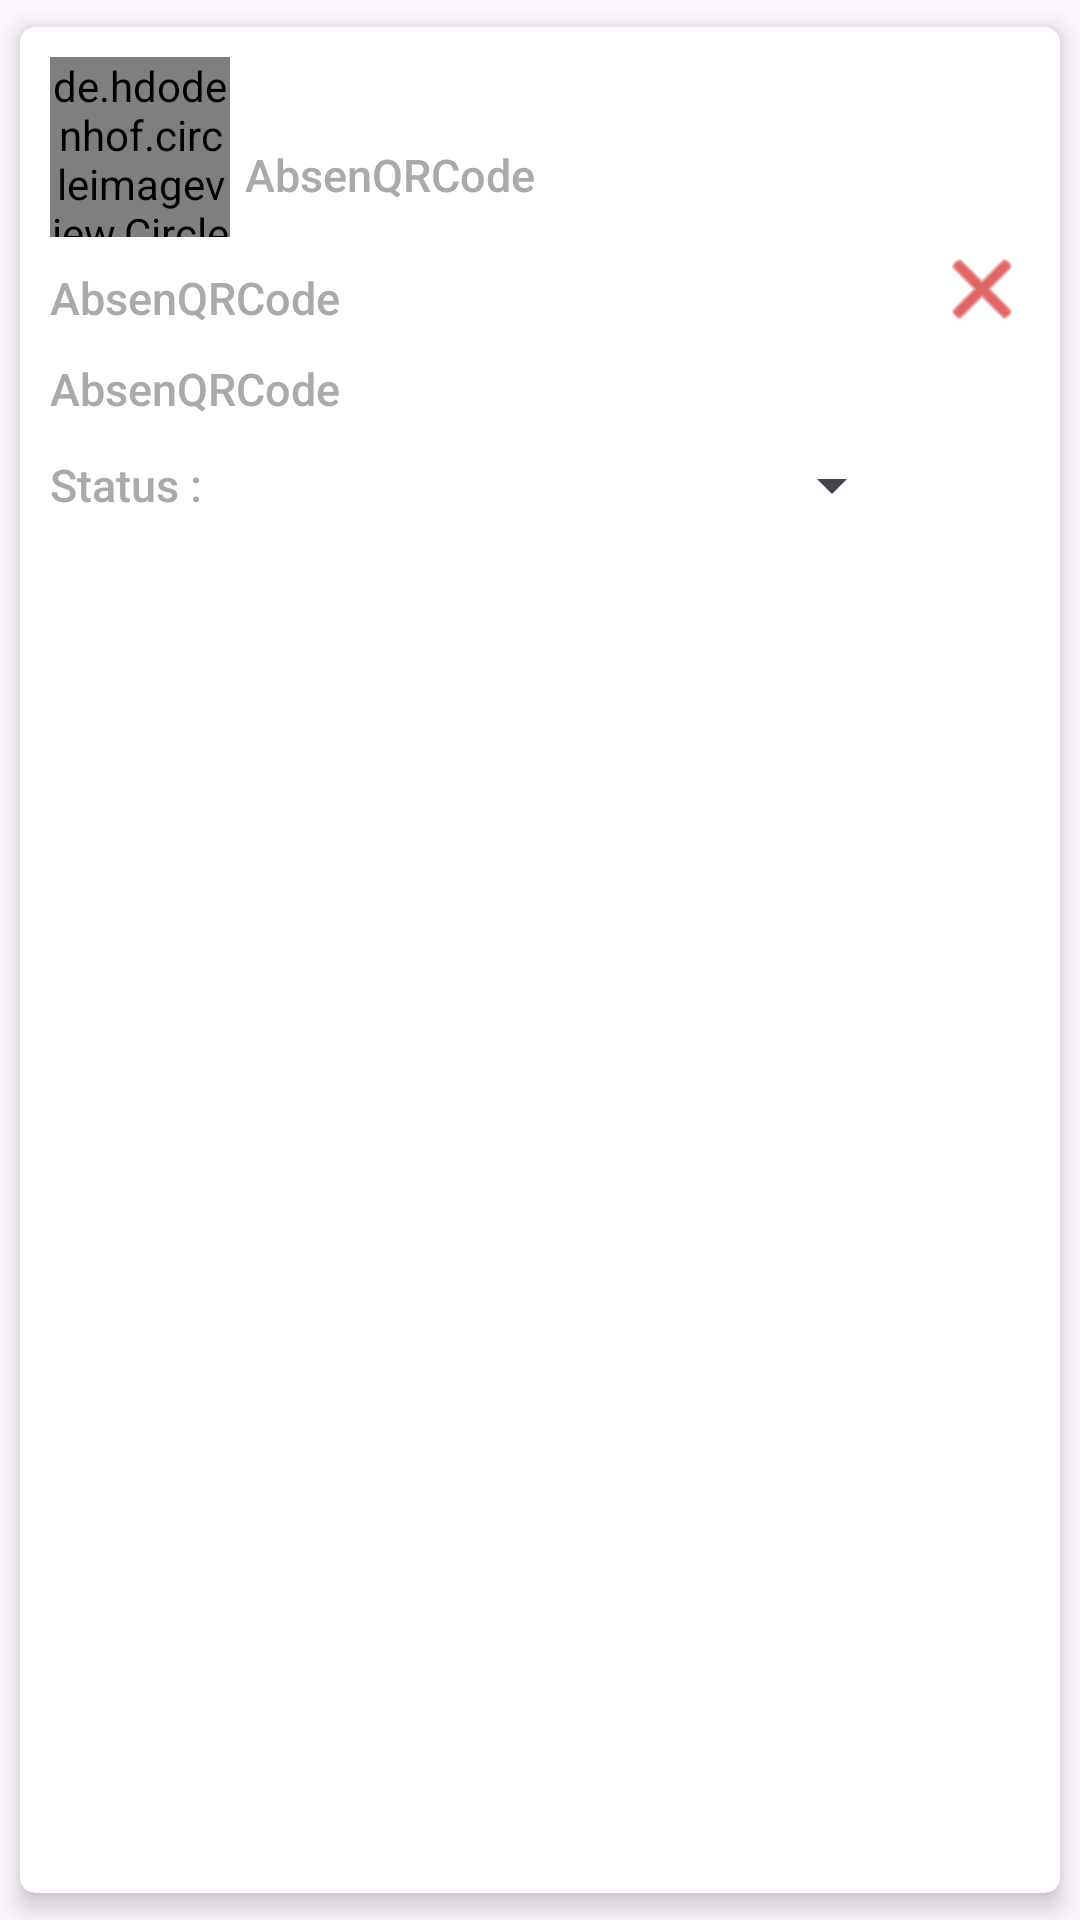

Point at icon controls on the screen. Image size 1080 x 1920, points as (x=x, y=y).
close clear cancel: (x=982, y=289)
